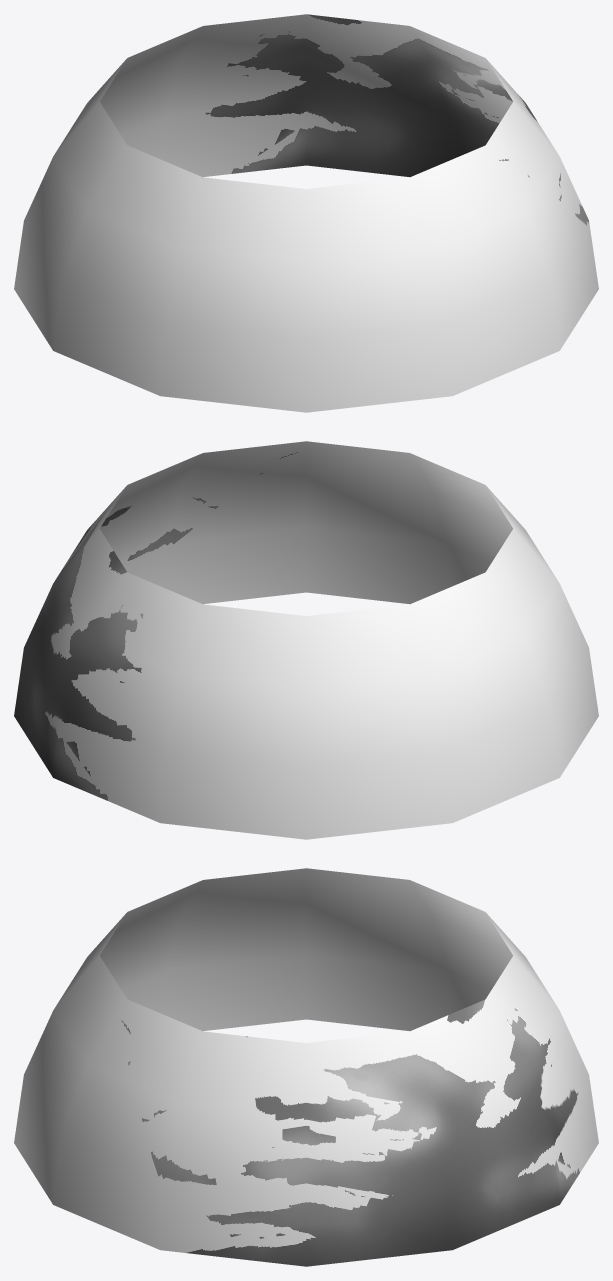
File: Cloud1-2.fbx
The picture shows the model from 3 angles, top to bottom: view 1: azimuth 30°, elevation 25°; view 2: azimuth 150°, elevation 25°; view 3: azimuth 270°, elevation 25°; orthographic projection.
Visible parts, largest first — view 1: Thunder7; view 2: Thunder7; view 3: Thunder7.
Boxes of the visible parts, <box> form: Thunder7: <box>14,14,598,412</box>; Thunder7: <box>14,441,598,839</box>; Thunder7: <box>14,868,598,1266</box>.
Bounding box in the file's own units: 16.31 × 5.77 × 16.31.
1 material, 1 textured.
